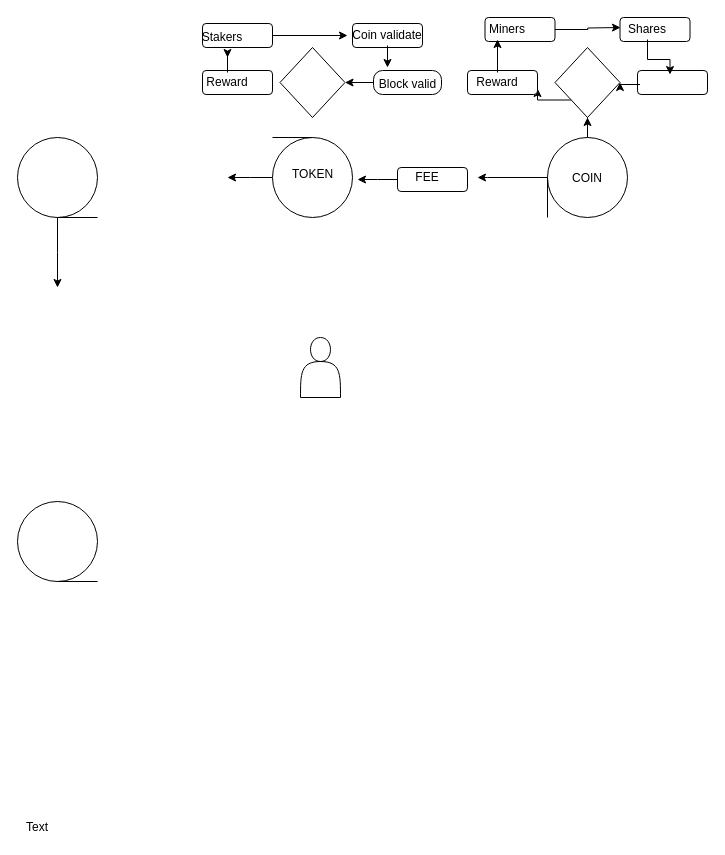
This 725x855 diagram has some shape labels left out. The centre of each missing label's shape, as x and y in pixels:
"Block" belongs at pixel 672 82.
"CREDIT CARDS" belongs at pixel 57 177.
"EXCHANGE" belongs at pixel 57 541.
"POS" belongs at pixel 312 82.
"POW" belongs at pixel 587 82.
